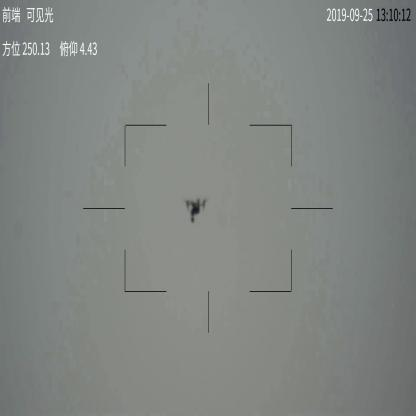uav: (184, 196, 209, 225)
